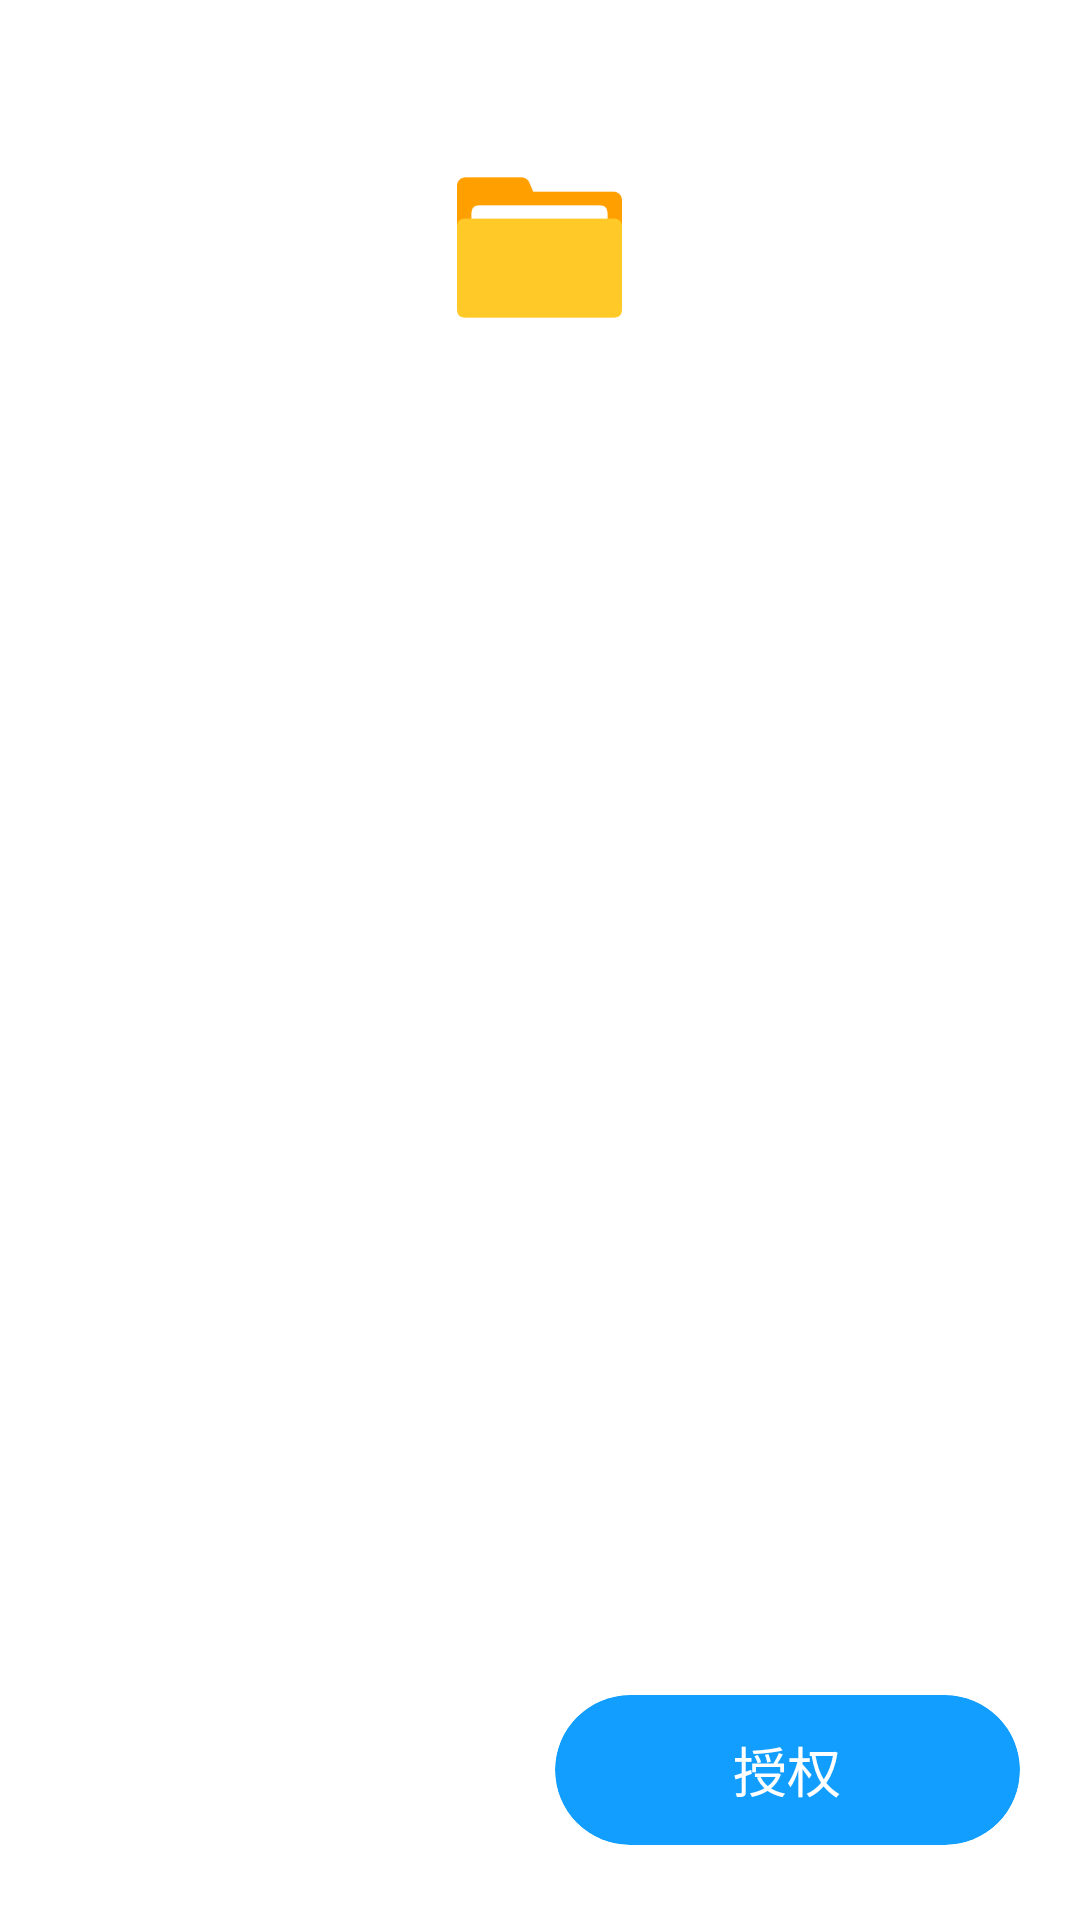

Icon bounding boxes for this 1080×1920 phone screenshot, format region(x1, y1, x2, y2):
file: region(457, 177, 622, 318)
